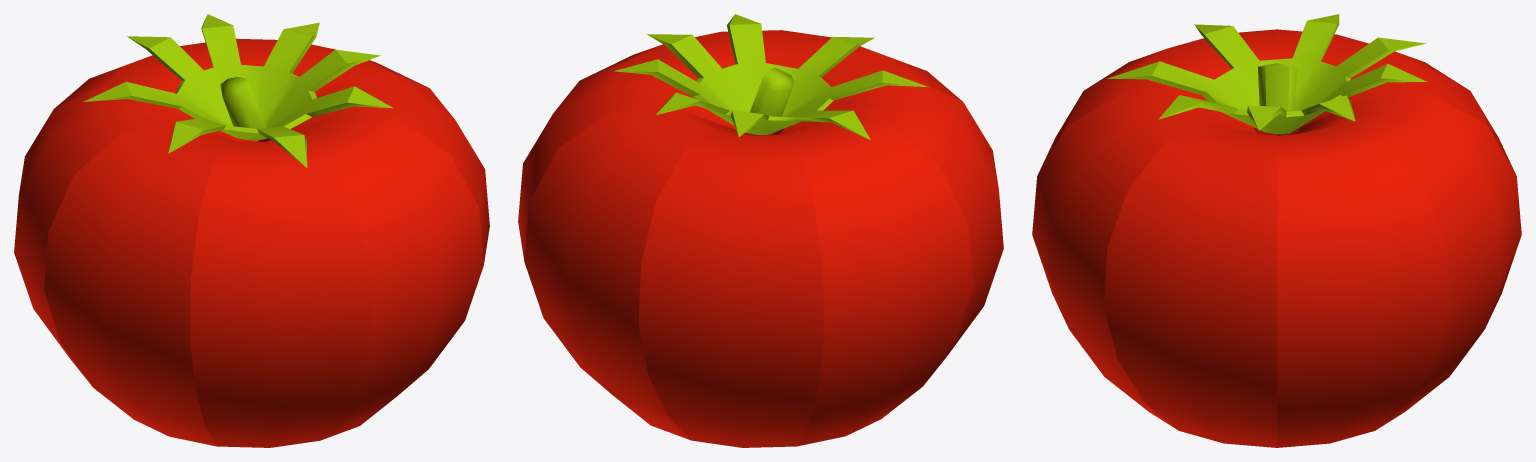
The model's file is tomato.fbx.
3 views of the same model, side by side, from view 1: azimuth 30°, elevation 25°; view 2: azimuth 150°, elevation 25°; view 3: azimuth 270°, elevation 25° (orthographic). The views are drawn at different scales.
Visible parts, largest first — view 1: Tomato_01.003; view 2: Tomato_01.003; view 3: Tomato_01.003.
Boxes of the visible parts, <box> form: Tomato_01.003: <box>14,14,489,447</box>; Tomato_01.003: <box>518,14,1003,447</box>; Tomato_01.003: <box>1032,14,1521,447</box>.
Size of the model in its own units: 0.0978 by 0.0767 by 0.0978.
